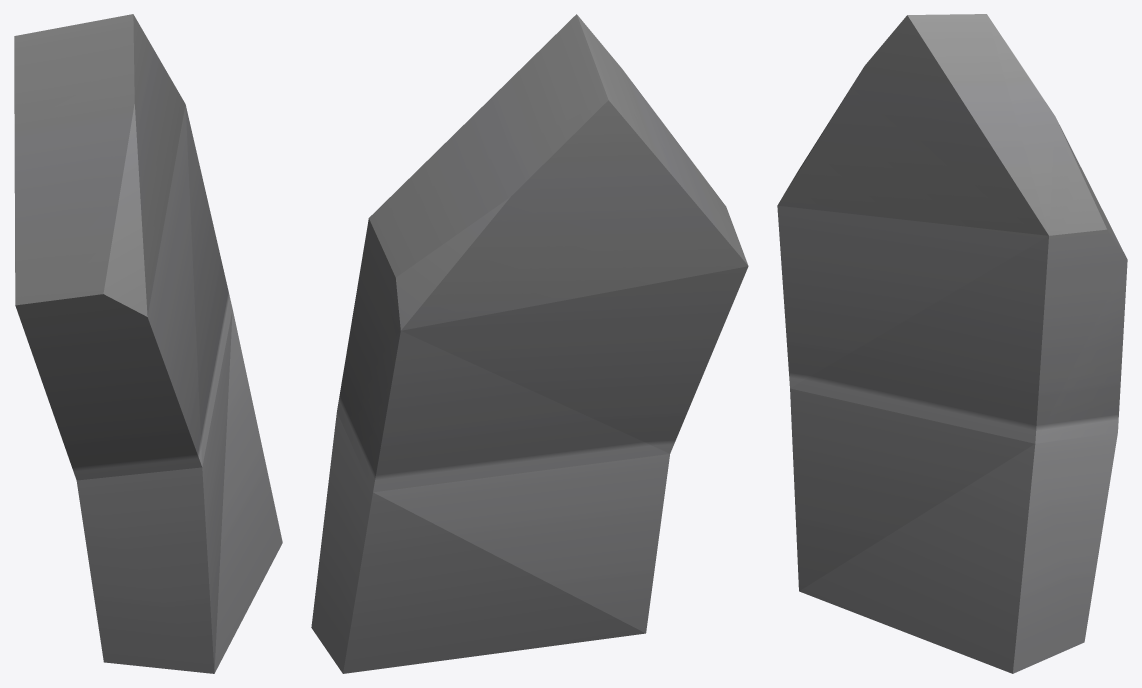
Rendered from ea_grave_stone_mini_01c_pre__23__lev1.glb.
3 renders of one model, left to right at view 1: azimuth 30°, elevation 25°; view 2: azimuth 150°, elevation 25°; view 3: azimuth 270°, elevation 25°, orthographic. The views are drawn at different scales.
Parts seen in each view (by area): view 1: ea_grave_stone_mini_01c_pre__23__lev1; view 2: ea_grave_stone_mini_01c_pre__23__lev1; view 3: ea_grave_stone_mini_01c_pre__23__lev1.
Boxes of the visible parts, x1=… form: ea_grave_stone_mini_01c_pre__23__lev1: x1=14, y1=14, x2=282, y2=673; ea_grave_stone_mini_01c_pre__23__lev1: x1=311, y1=14, x2=748, y2=673; ea_grave_stone_mini_01c_pre__23__lev1: x1=777, y1=14, x2=1127, y2=673.
Bounding box in the file's own units: 1.12 × 1.88 × 1.06.
Materials: 1 (1 with a texture image).
